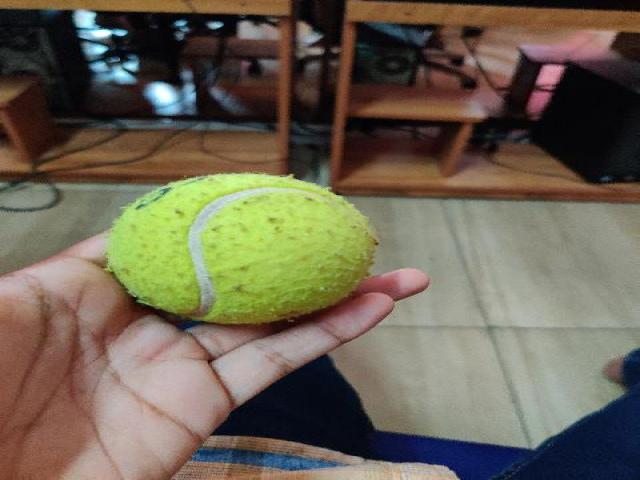tennis-ball: (104, 172, 378, 324)
